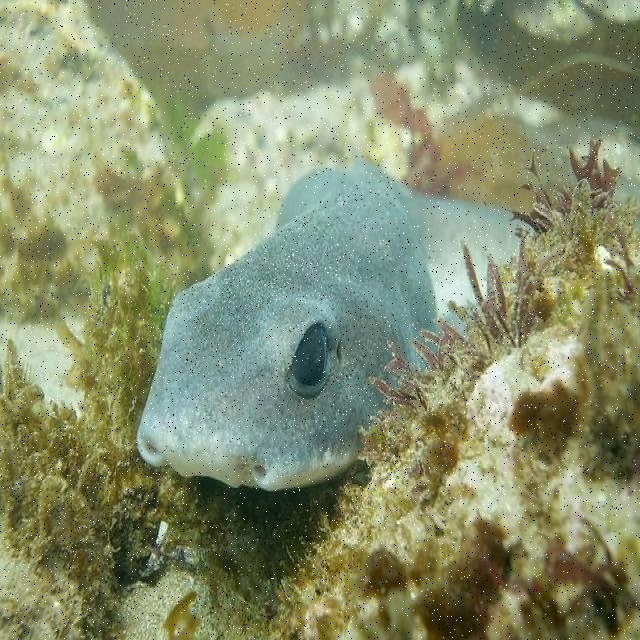aquatic plants: (1, 217, 340, 582)
reefs: (137, 160, 542, 491)
sea-floor: (0, 0, 194, 297)
